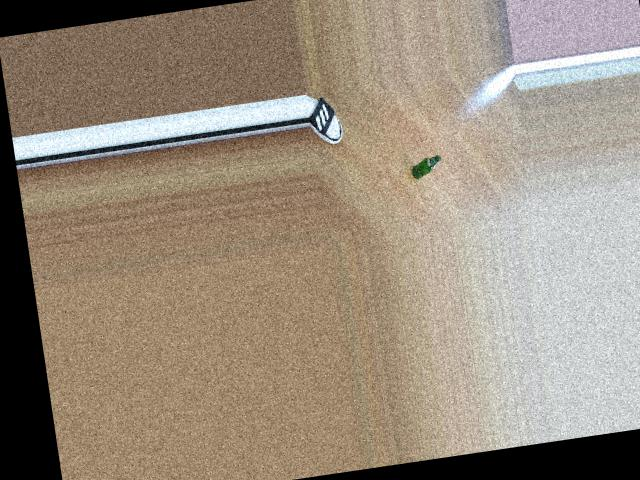beer: (410, 154, 442, 178)
